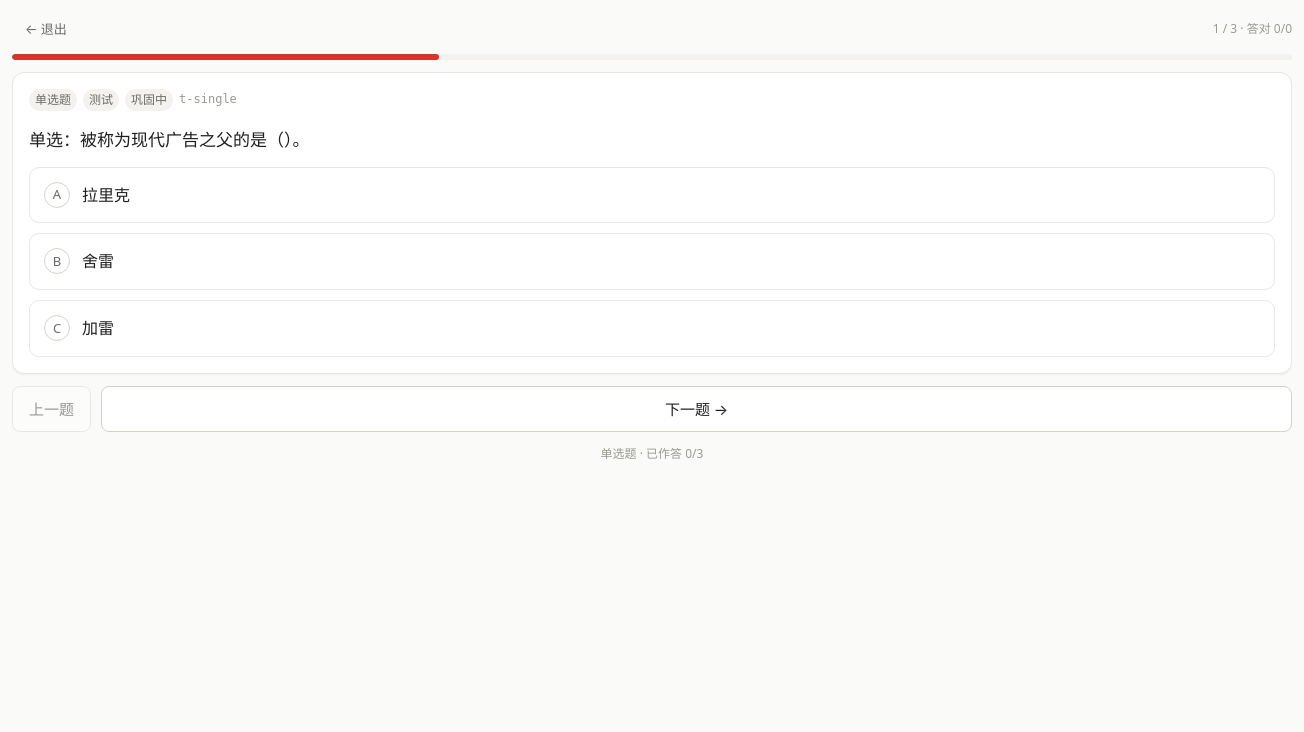
Scenario: 滑动手势 · 不能把点击翻页吃掉 › 在「下一题」按钮上点按并右移 80px：应当正常前进，不能原地不动
Click the button "下一题 →" at (696, 408), box [101,386,1292,432]
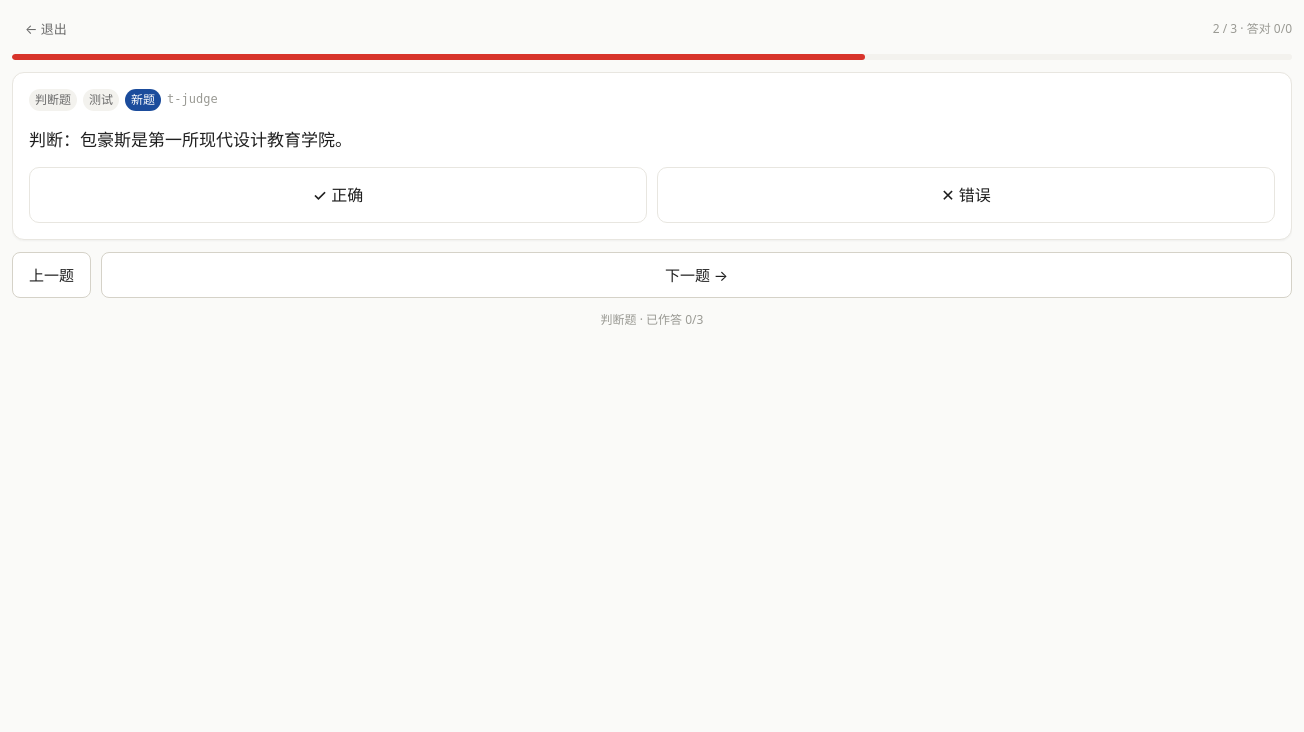
Check: the text "2 / 3 · 答对 0/0" is shown, box [1213,19,1292,39]
Click the button "下一题 →" at (696, 275), box [101,252,1292,298]
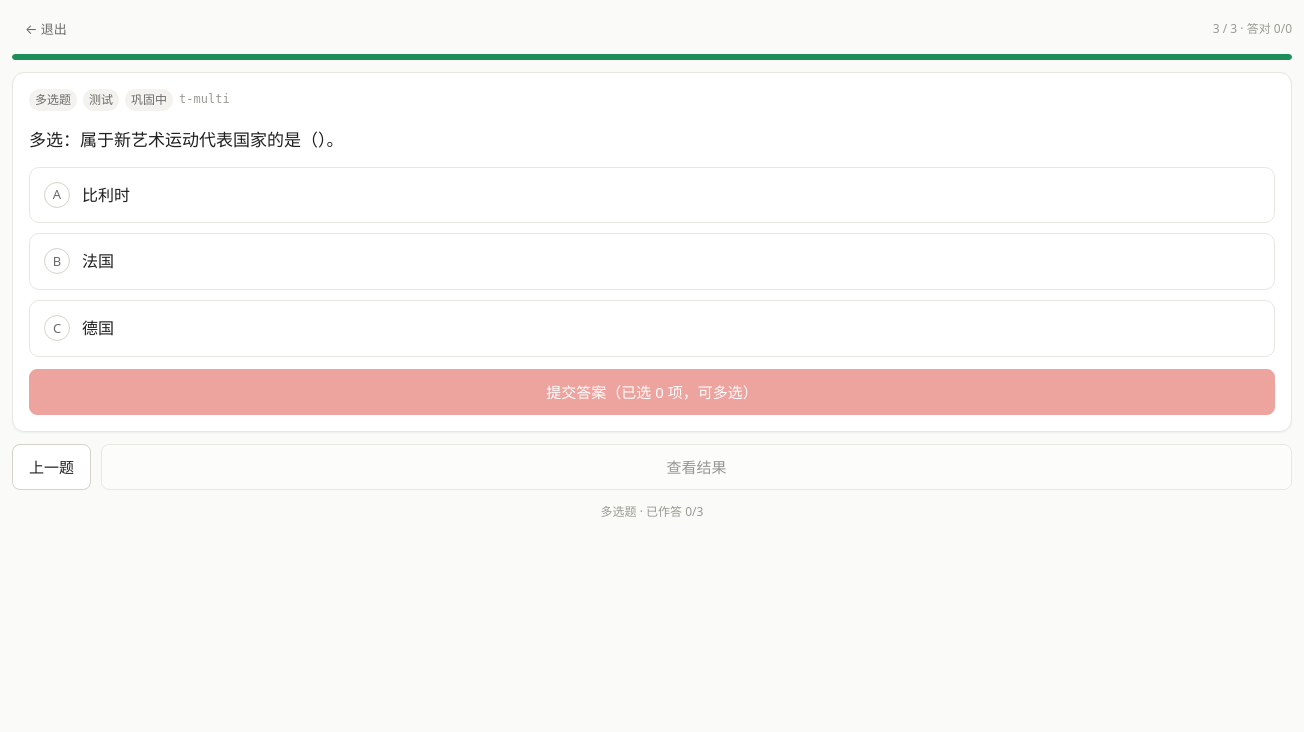
Check: the text "3 / 3 · 答对 0/0" is shown, box [1213,19,1292,39]
